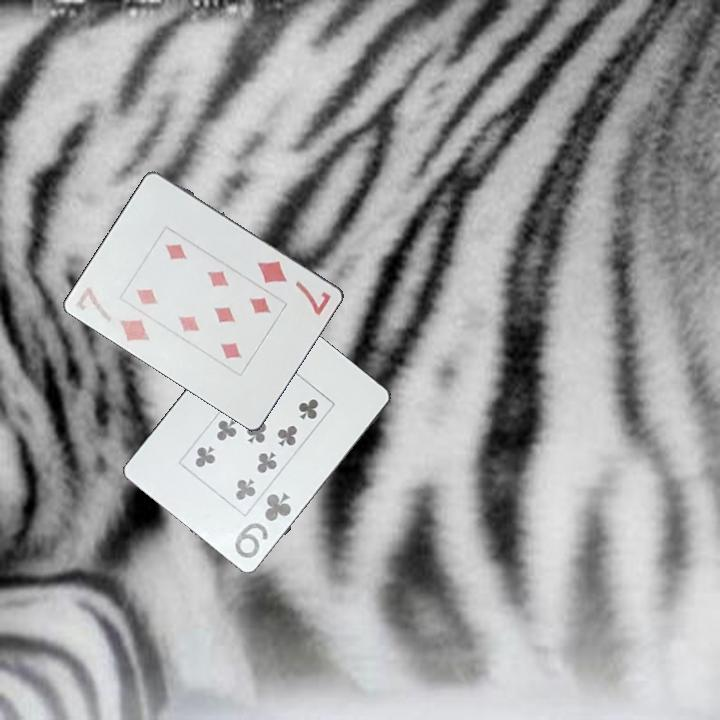7d: (72, 283, 154, 344), (254, 257, 334, 318)
9c: (231, 488, 294, 561)
